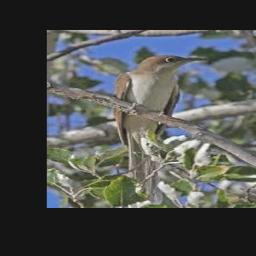Cuckoo: (113, 56, 207, 199)
